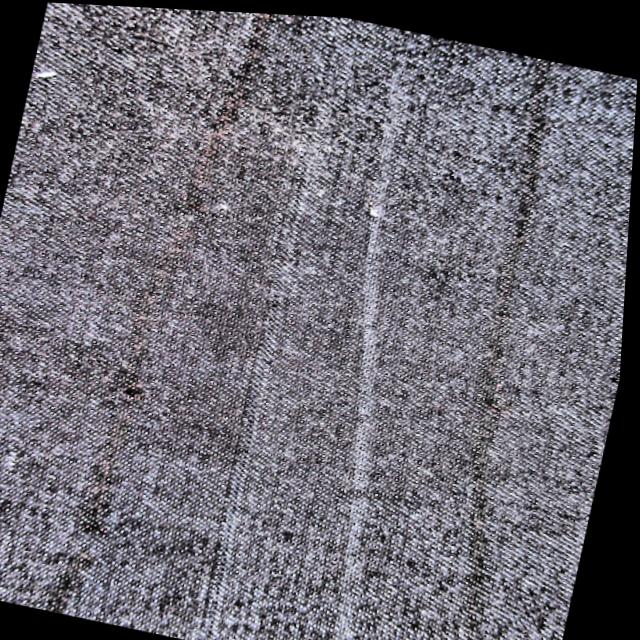Stitch: (260, 119, 361, 226), (233, 280, 310, 369), (202, 462, 276, 531)
